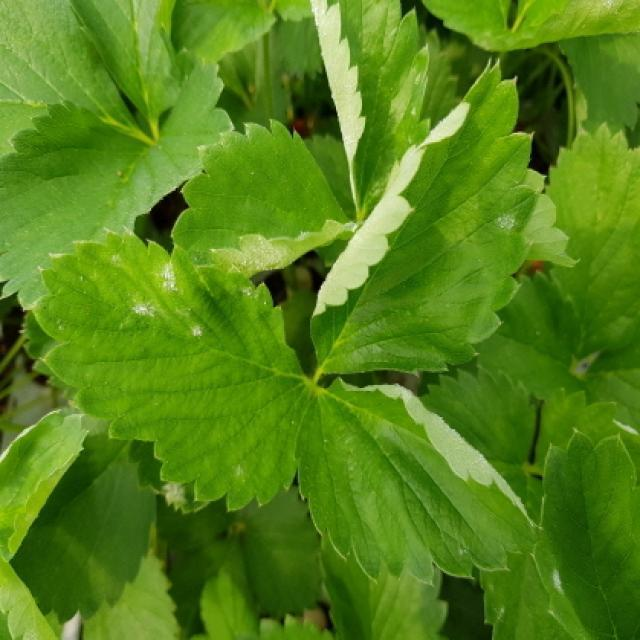powdery_mildew_leaf: (27, 223, 312, 512), (307, 57, 538, 375), (294, 376, 541, 586), (169, 118, 360, 283), (309, 0, 434, 221), (529, 428, 638, 638)
